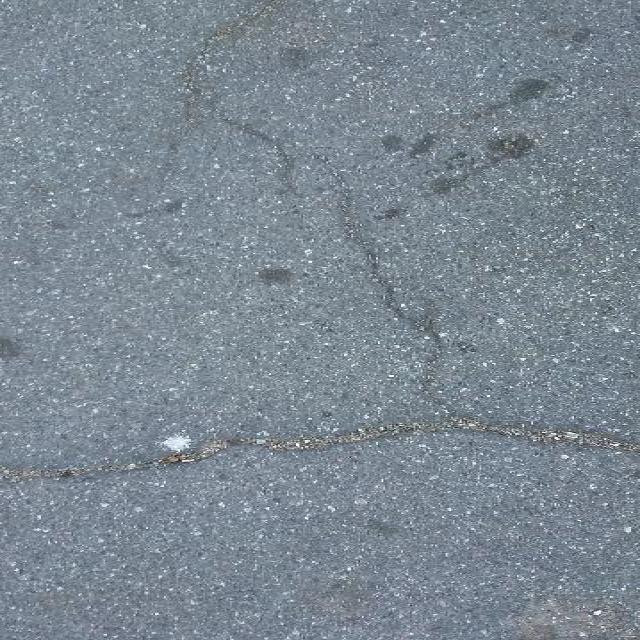GRIETA: (0, 418, 639, 477), (314, 154, 435, 336), (184, 0, 284, 129), (212, 103, 296, 194)
